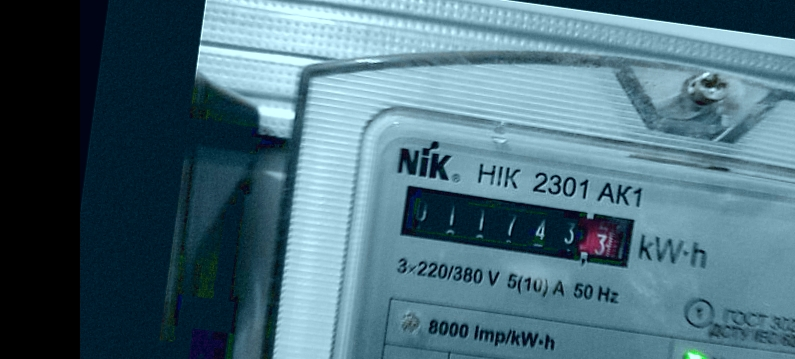0: (414, 195, 432, 224)
1: (474, 203, 490, 232), (446, 199, 459, 227)
3: (562, 218, 580, 247), (592, 231, 609, 258)
4: (533, 214, 550, 243)
7: (503, 207, 522, 237)
screen: (389, 173, 649, 280)
